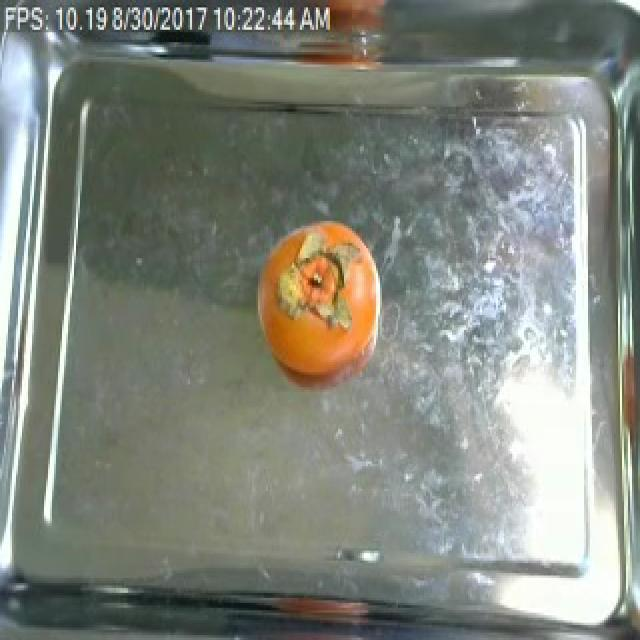Fruit: (252, 218, 356, 387), (318, 0, 394, 37)
